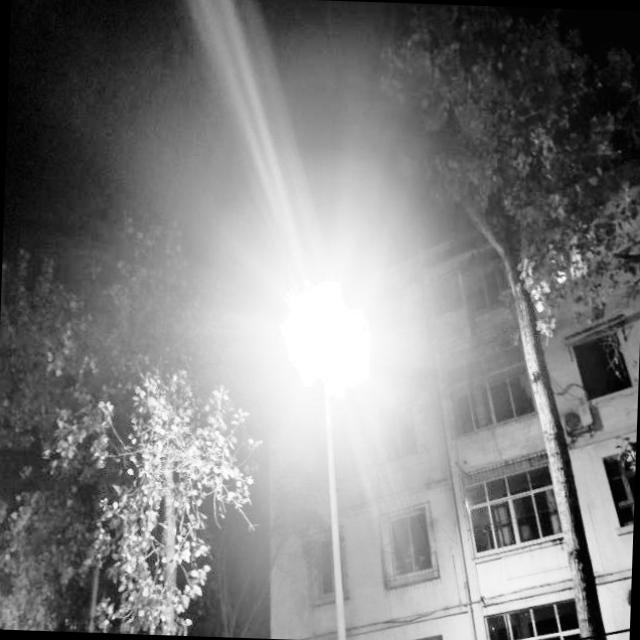Light: (275, 302, 367, 640)
Tree: (436, 139, 625, 640), (134, 364, 198, 635)
